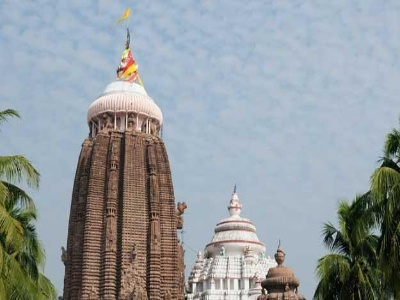amalaka: (73, 85, 178, 140)
gopuram: (55, 131, 190, 296)
